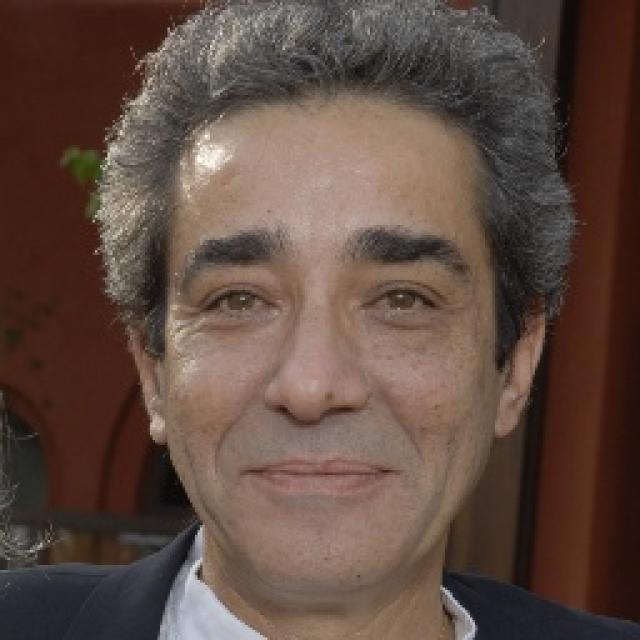earlobe: (494, 292, 547, 440), (128, 320, 171, 446)
